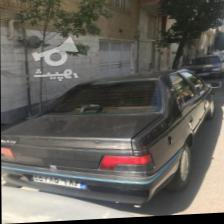plate: (31, 171, 87, 193)
